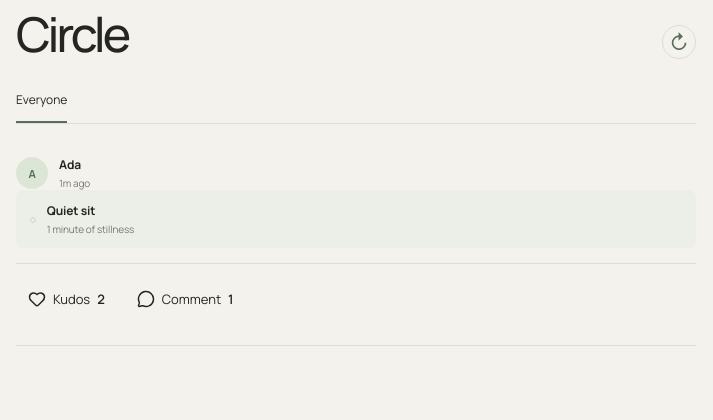
Circle final coverage › covers primitive kudos rejection directly
Click the button with aria-label "give kudos" at (66,299), box [16,277,117,321]
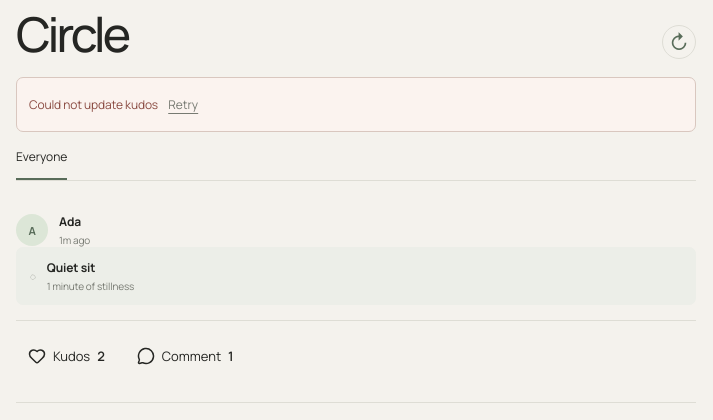
Result: the text "Could not update kudos" is shown at [29,96,158,113]
